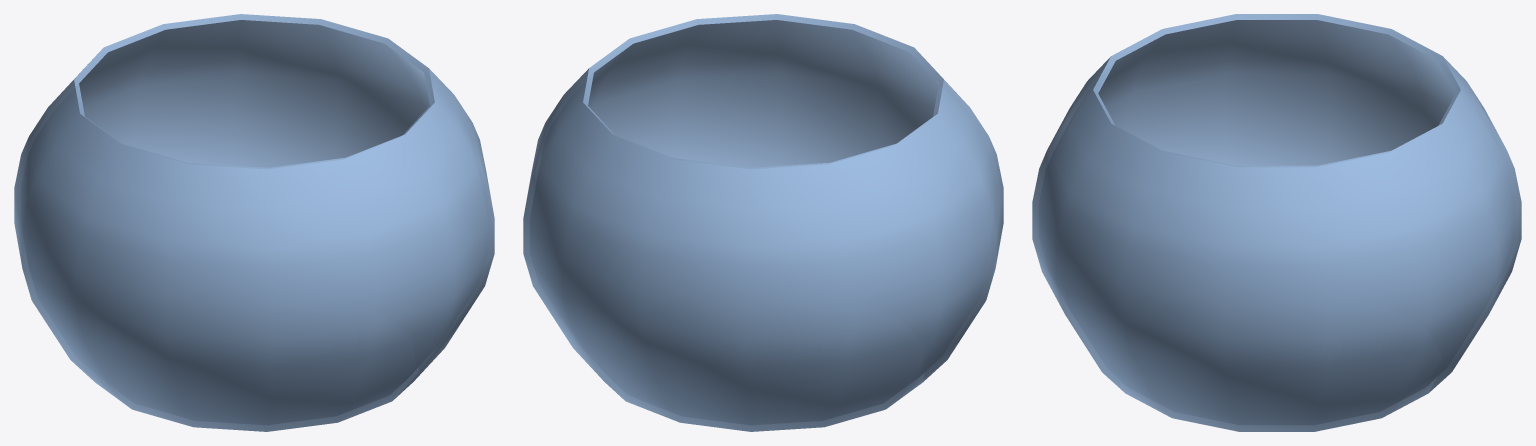
The model's file is Vase.fbx.
3 views of the same model, side by side, from view 1: azimuth 30°, elevation 25°; view 2: azimuth 150°, elevation 25°; view 3: azimuth 270°, elevation 25° (orthographic).
Parts seen in each view (by area): view 1: vase; view 2: vase; view 3: vase.
Boxes of the visible parts, x1=… form: vase: x1=14, y1=14, x2=494, y2=431; vase: x1=523, y1=14, x2=1003, y2=431; vase: x1=1032, y1=14, x2=1521, y2=431.
Size of the model in its own units: 721 by 455 by 740.
